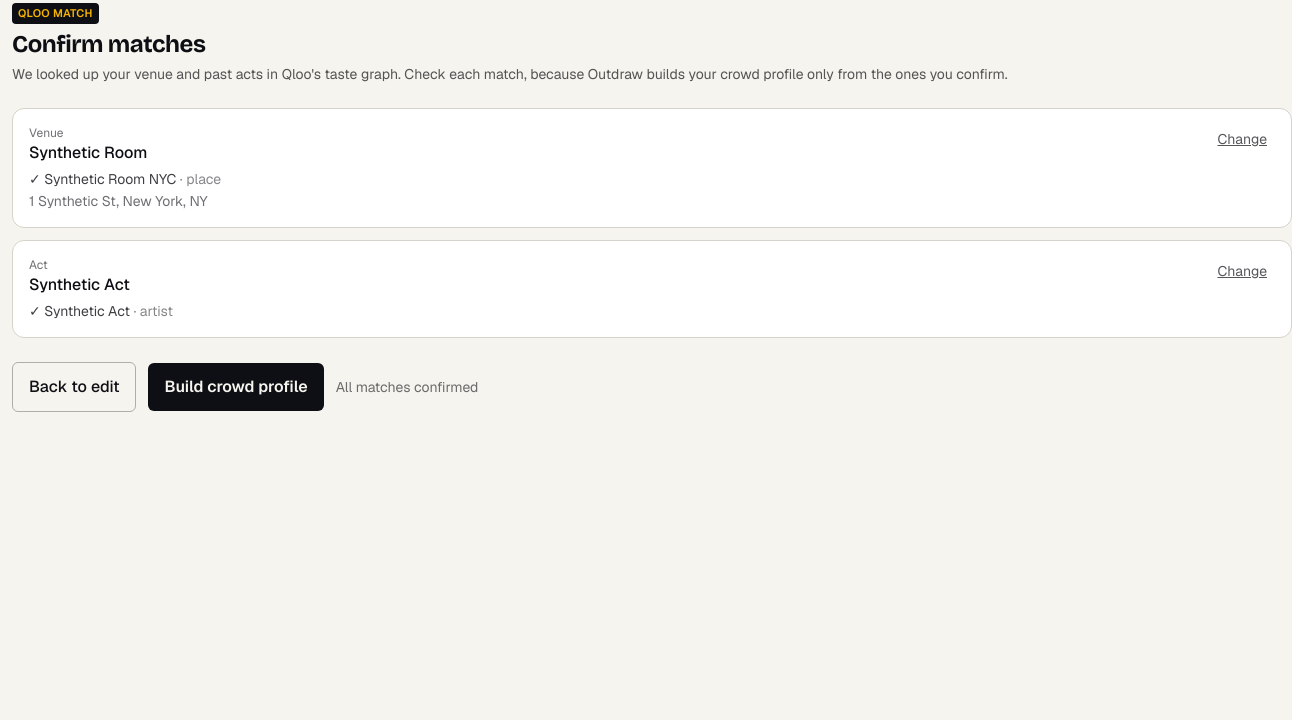
Test: confirm matches › lets the user change an auto-confirmed match, blocking the profile meanwhile
The width and height of the screenshot is (1292, 720).
Expected: the button "Build crowd profile" is enabled, [148, 363, 324, 411]
Click the button with aria-label "Change match for Synthetic Act" at (1242, 271), box [1210, 257, 1275, 285]
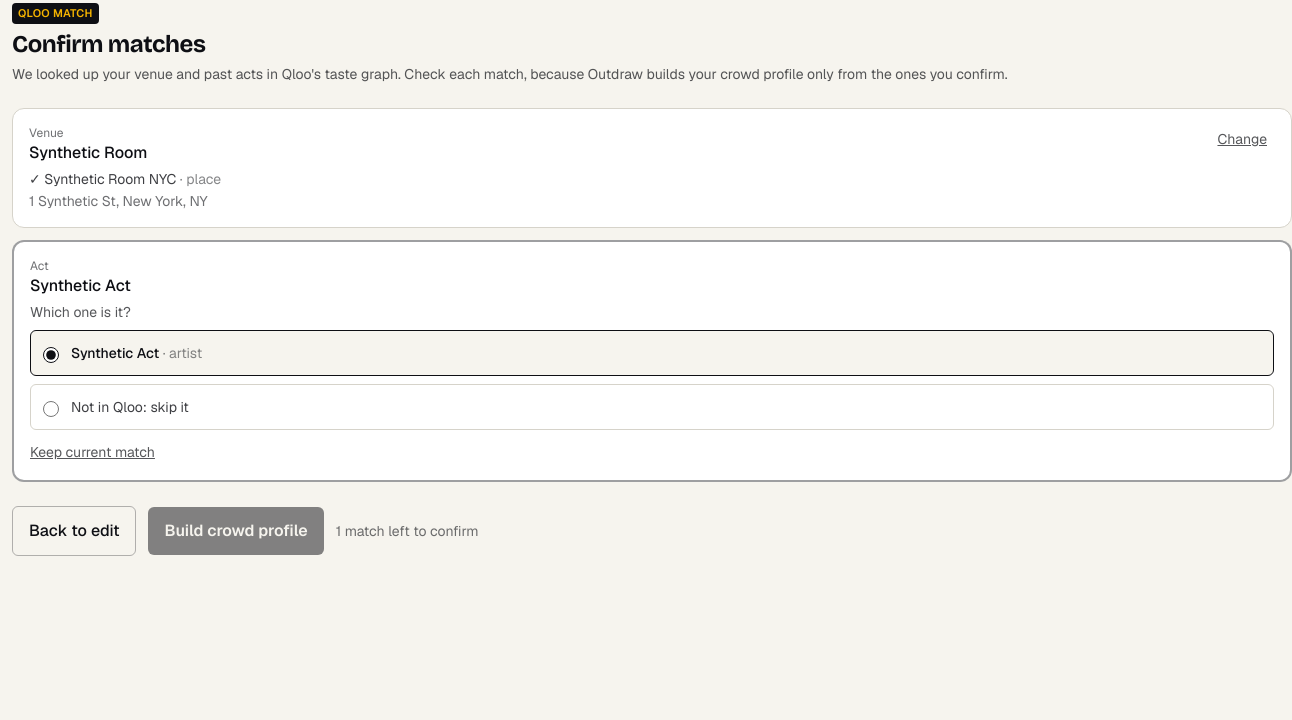
Expected: the button "Build crowd profile" is disabled, [148, 507, 324, 555]
Expected: the radio button labelled "Synthetic Act · artist" is checked, [43, 347, 59, 363]
Click the radio button labelled "Not in Qloo: skip it" at (51, 409), box [43, 401, 59, 417]
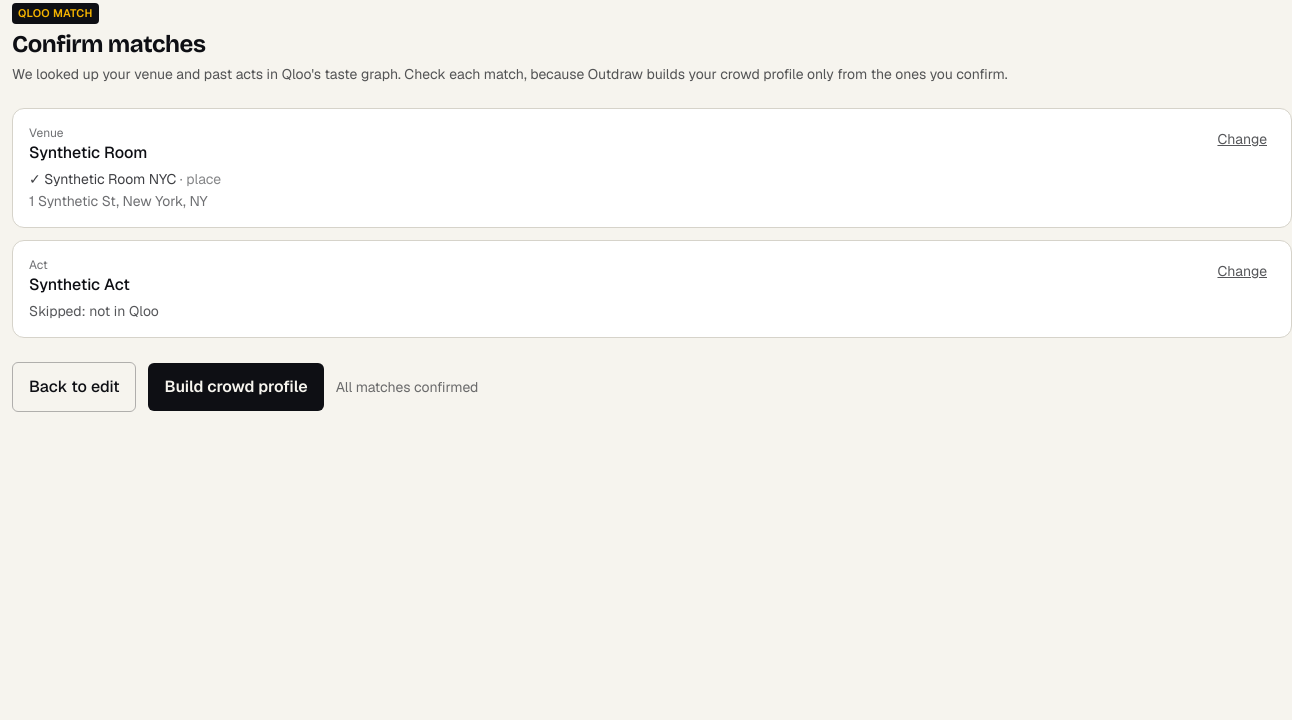
Expected: the text "Skipped: not in Qloo" is shown, [29, 301, 159, 321]
Expected: the button "Build crowd profile" is enabled, [148, 363, 324, 411]
